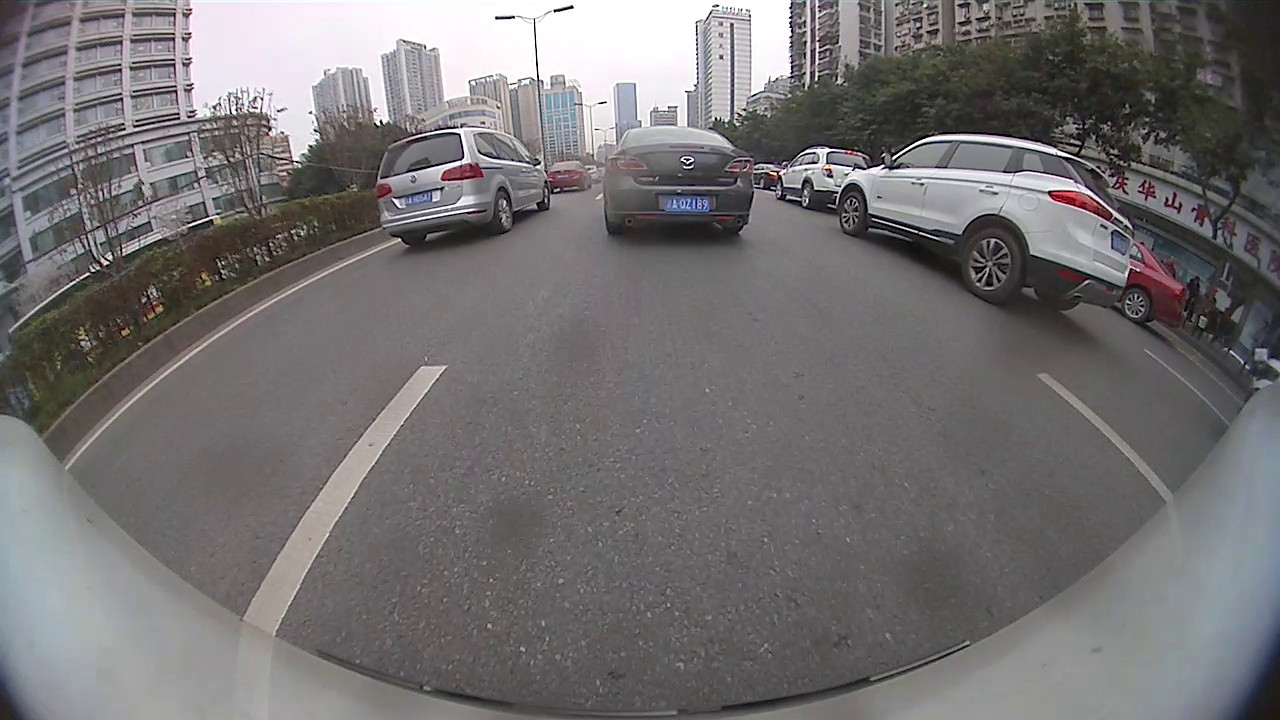car: (836, 131, 1135, 307), (377, 123, 552, 249), (602, 124, 754, 241), (1118, 236, 1189, 327), (773, 148, 874, 211), (546, 158, 592, 194), (747, 163, 788, 192)
front: (837, 189, 870, 236), (773, 177, 787, 201), (541, 184, 550, 209)
person: (1188, 275, 1199, 331), (1206, 283, 1216, 343)
rear: (958, 226, 1026, 302), (1120, 288, 1151, 324), (494, 188, 514, 232), (801, 181, 815, 210)
